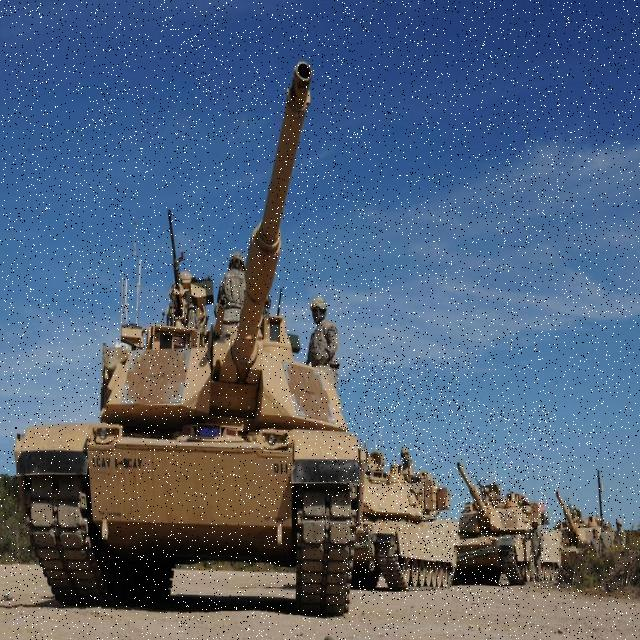MIL_MBT: (12, 10, 360, 623), (334, 357, 460, 600), (437, 406, 556, 601), (547, 448, 576, 608)
